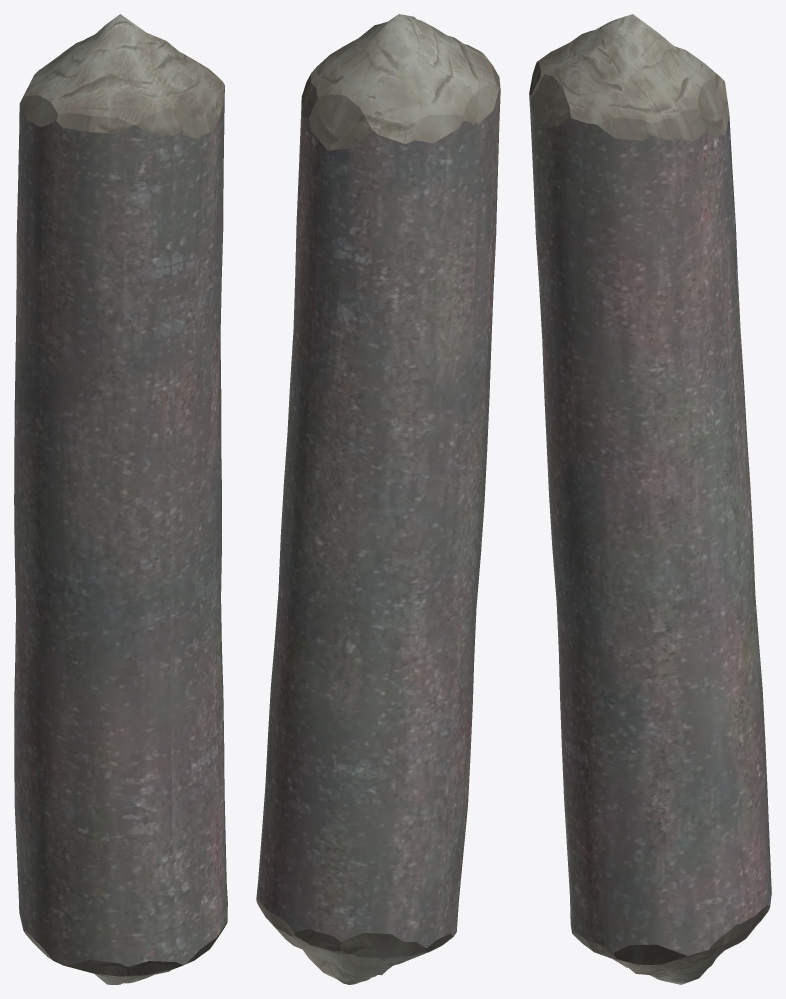
3 views of the same model, side by side, from view 1: azimuth 30°, elevation 25°; view 2: azimuth 150°, elevation 25°; view 3: azimuth 270°, elevation 25° (orthographic). The views are drawn at different scales.
Visible parts, largest first — view 1: SM_GF_Ash_Tree_01_half_mid_LOD0; view 2: SM_GF_Ash_Tree_01_half_mid_LOD0; view 3: SM_GF_Ash_Tree_01_half_mid_LOD0.
Boxes of the visible parts, left/top/right/bottom form: SM_GF_Ash_Tree_01_half_mid_LOD0: left=14, top=14, right=227, bottom=984; SM_GF_Ash_Tree_01_half_mid_LOD0: left=256, top=14, right=500, bottom=984; SM_GF_Ash_Tree_01_half_mid_LOD0: left=529, top=14, right=771, bottom=984.
Bounding box in the file's own units: 0.5217 × 2.45 × 0.5616.
